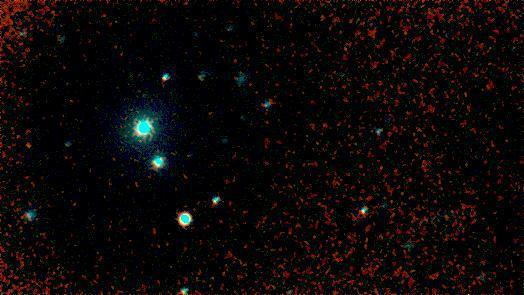star: (14, 131, 44, 161)
